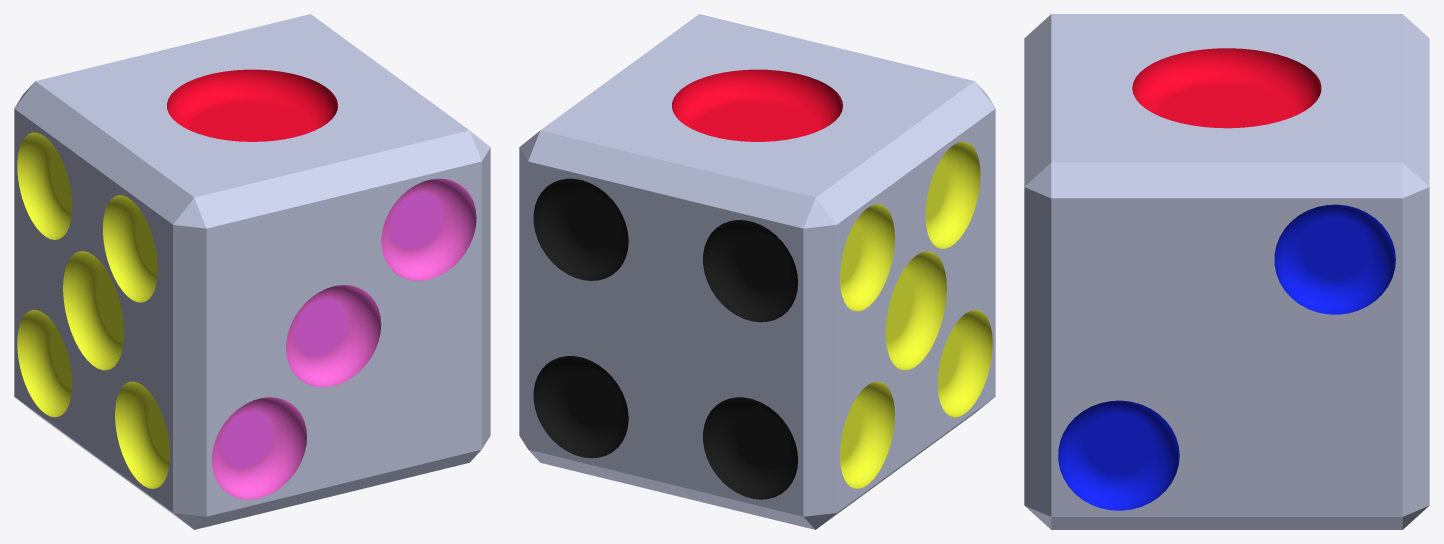
File: saikoro.glb
3 renders of one model, left to right at view 1: azimuth 30°, elevation 25°; view 2: azimuth 150°, elevation 25°; view 3: azimuth 270°, elevation 25°, orthographic. The views are drawn at different scales.
Parts seen in each view (by area): view 1: Part1; view 2: Part1; view 3: Part1.
Boxes of the visible parts, x1,y1,x2,y2 form: Part1: (14,14,490,529); Part1: (519,14,995,529); Part1: (1024,14,1429,529).
Size of the model in its own units: 0.03 by 0.03 by 0.03.
